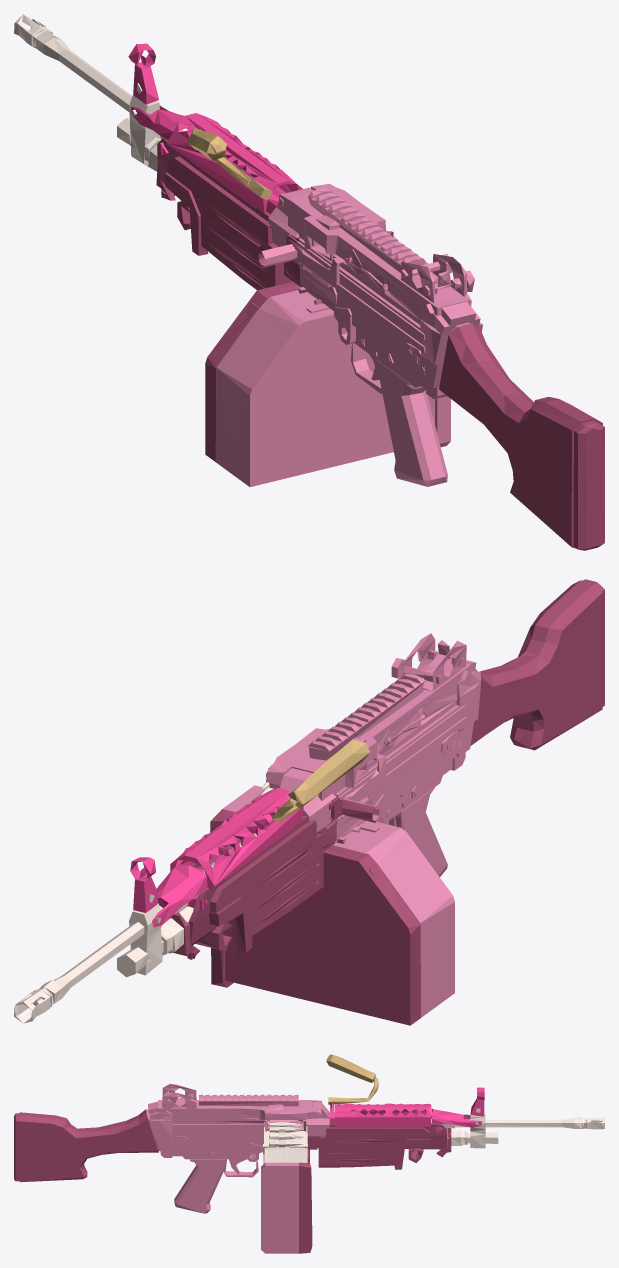
File: LMG_M249.obj
3 renders of one model, top to bottom at view 1: azimuth 30°, elevation 25°; view 2: azimuth 150°, elevation 25°; view 3: azimuth 270°, elevation 25°, orthographic. The views are drawn at different scales.
Visible parts, largest first — view 1: Body, Grip, Mag, Accent, Panel, Bolt; view 2: Mag, Body, Grip, Accent, Panel, Bolt; view 3: Body, Grip, Mag, Panel, Accent, Bolt.
Boxes of the visible parts, x1=… form: Body: x1=215, y1=183, x2=482, y2=486; Grip: x1=439, y1=323, x2=604, y2=550; Mag: x1=156, y1=138, x2=301, y2=461; Accent: x1=128, y1=43, x2=302, y2=214; Panel: x1=14, y1=14, x2=396, y2=238; Bolt: x1=187, y1=127, x2=271, y2=200; Mag: x1=169, y1=794, x2=420, y2=1025; Body: x1=222, y1=633, x2=480, y2=1017; Grip: x1=470, y1=579, x2=604, y2=750; Accent: x1=130, y1=788, x2=303, y2=927; Panel: x1=14, y1=782, x2=273, y2=1023; Bolt: x1=271, y1=739, x2=370, y2=822; Body: x1=146, y1=1084, x2=329, y2=1253; Grip: x1=14, y1=1109, x2=158, y2=1182; Mag: x1=299, y1=1115, x2=451, y2=1253; Panel: x1=263, y1=1108, x2=604, y2=1162; Accent: x1=327, y1=1087, x2=484, y2=1132; Bolt: x1=326, y1=1054, x2=378, y2=1104.
Bounding box in the file's own units: 0.8458 × 1.23 × 4.2.
